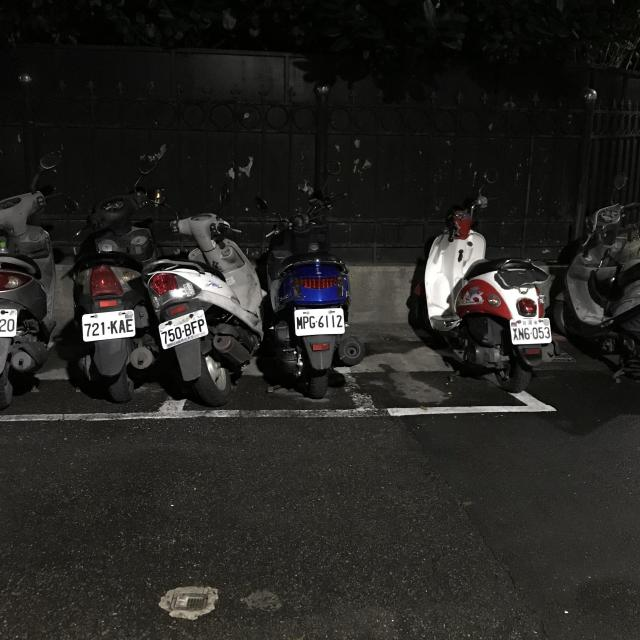W: (156, 307, 211, 348), (80, 308, 138, 342), (290, 305, 348, 337), (506, 313, 558, 347), (0, 304, 20, 339)
